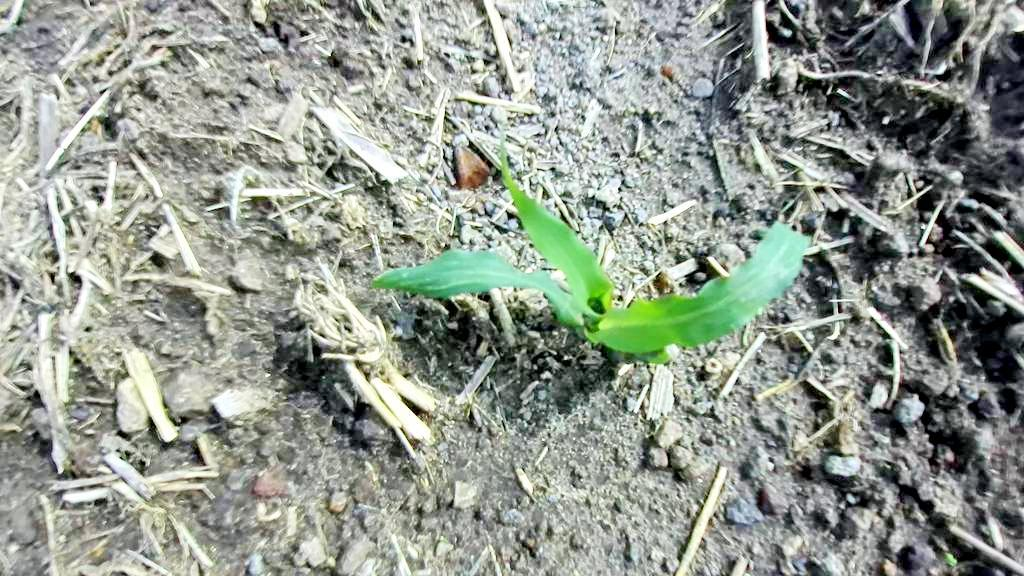BroWeed: (940, 551, 960, 568), (661, 63, 672, 78)
Maize: (368, 130, 812, 394)
